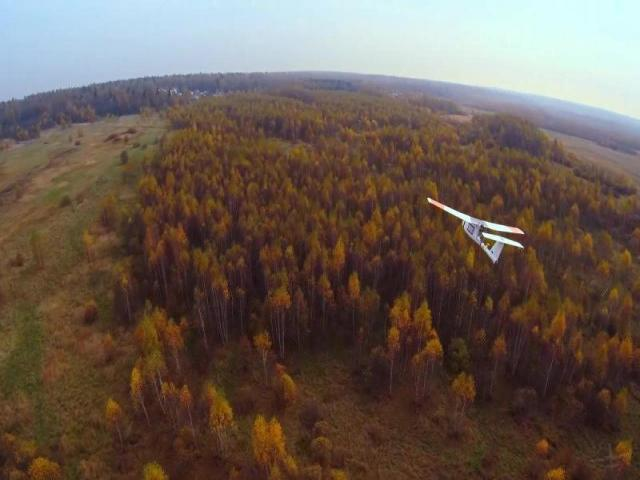hedef: (421, 188, 524, 274)
